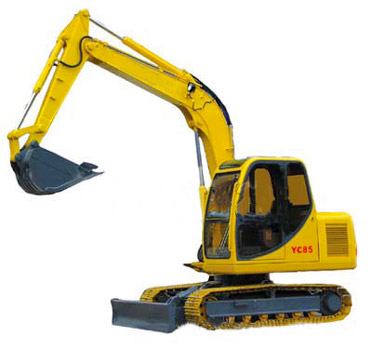backhoe: (13, 7, 357, 336)
